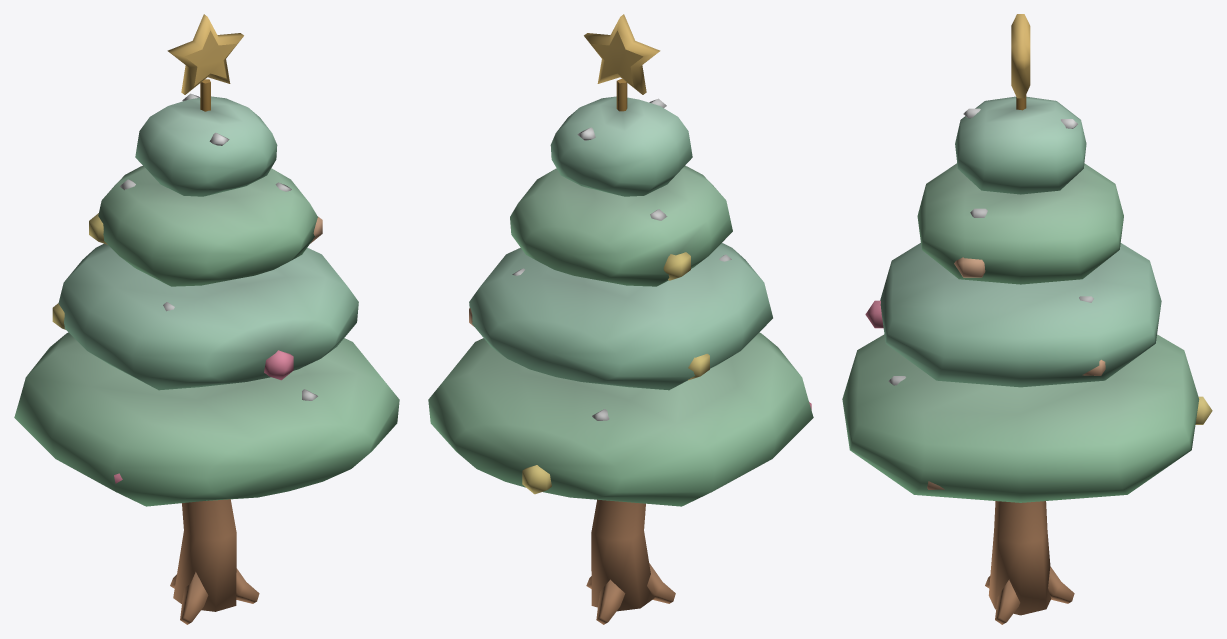
Rendered from tree-mint.glb.
3 views of the same model, side by side, from view 1: azimuth 30°, elevation 25°; view 2: azimuth 150°, elevation 25°; view 3: azimuth 270°, elevation 25° (orthographic).
Visible parts, largest first — view 1: PROP_TREE_MINT__body; view 2: PROP_TREE_MINT__body; view 3: PROP_TREE_MINT__body.
Part boxes in pixels (x1,y1,x2,y2): PROP_TREE_MINT__body: [14, 14, 399, 624]; PROP_TREE_MINT__body: [428, 14, 813, 624]; PROP_TREE_MINT__body: [842, 14, 1212, 624].
Size of the model in its own units: 1.09 by 2 by 1.13.
